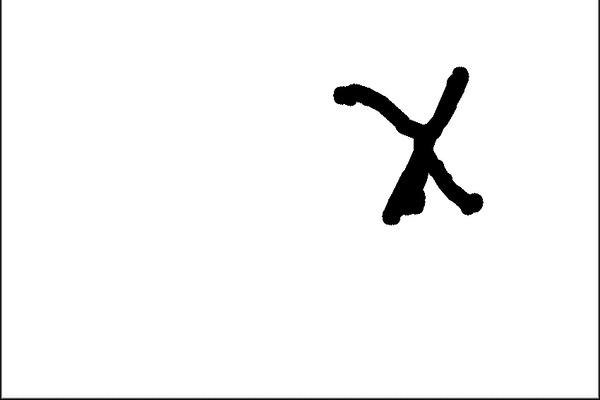X: (312, 53, 487, 234)
